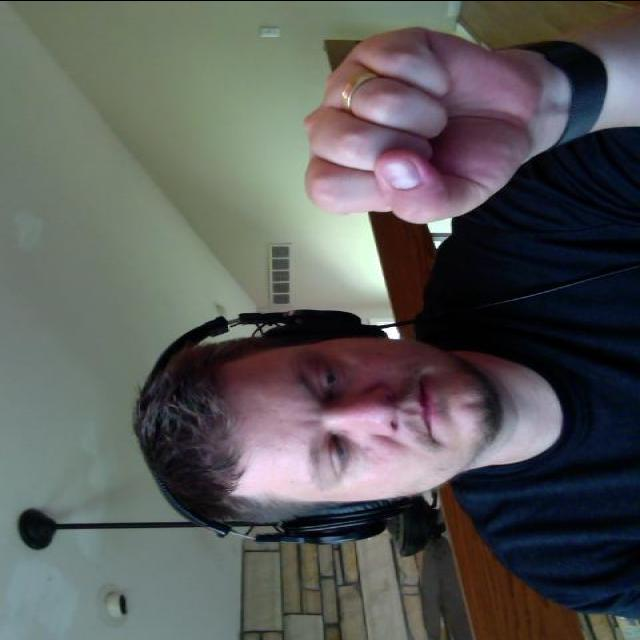Rock: (297, 24, 539, 228)
